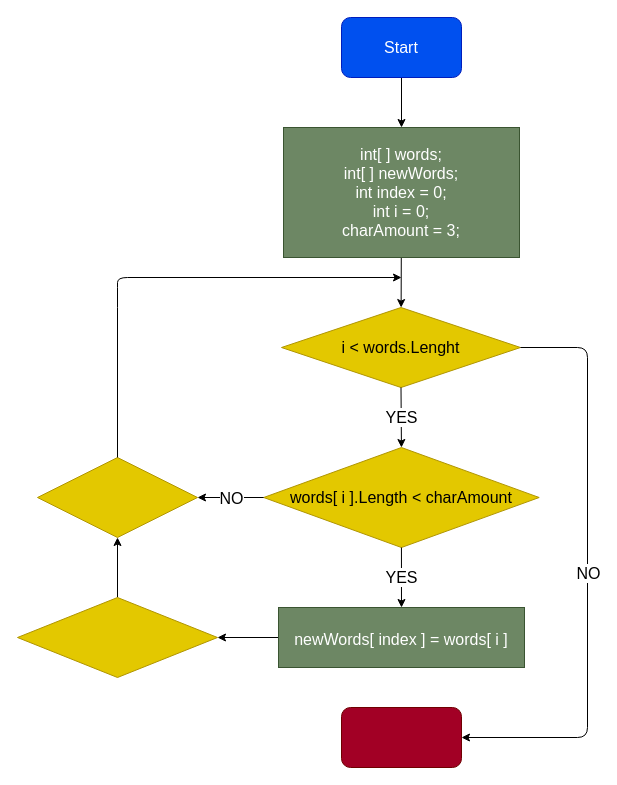
This 617x785 diagram has some shape labels left out. Here are the shapes that lost their labels. From the top down, the box of each, then its label:
(36, 456, 198, 538): i = i + i
(16, 596, 218, 678): index = index + index
(340, 706, 462, 768): Finish
